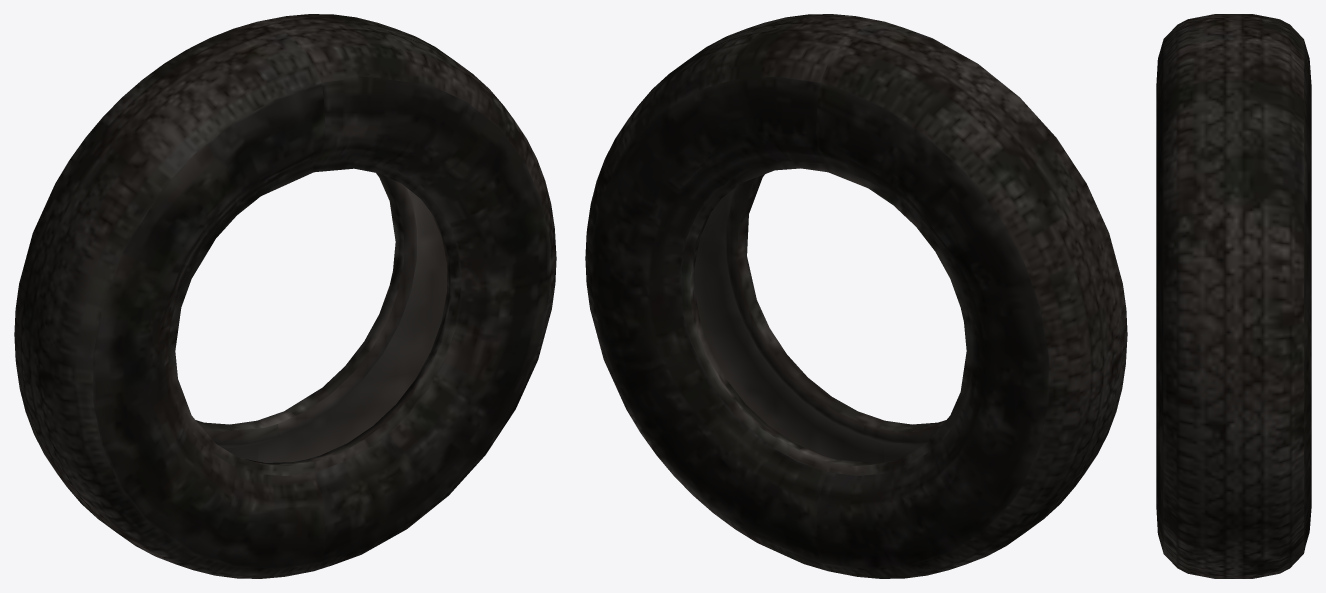
The model's file is old_tyre.glb.
3 renders of one model, left to right at view 1: azimuth 30°, elevation 25°; view 2: azimuth 150°, elevation 25°; view 3: azimuth 270°, elevation 25°, orthographic. The views are drawn at different scales.
Parts seen in each view (by area): view 1: old_tyre; view 2: old_tyre; view 3: old_tyre.
Boxes of the visible parts, left/top/right/bottom form: old_tyre: left=14, top=14, right=556, bottom=578; old_tyre: left=585, top=14, right=1127, bottom=578; old_tyre: left=1156, top=14, right=1311, bottom=578.
Bounding box in the file's own units: 0.6 × 0.6 × 0.165.
1 material, 1 textured.
